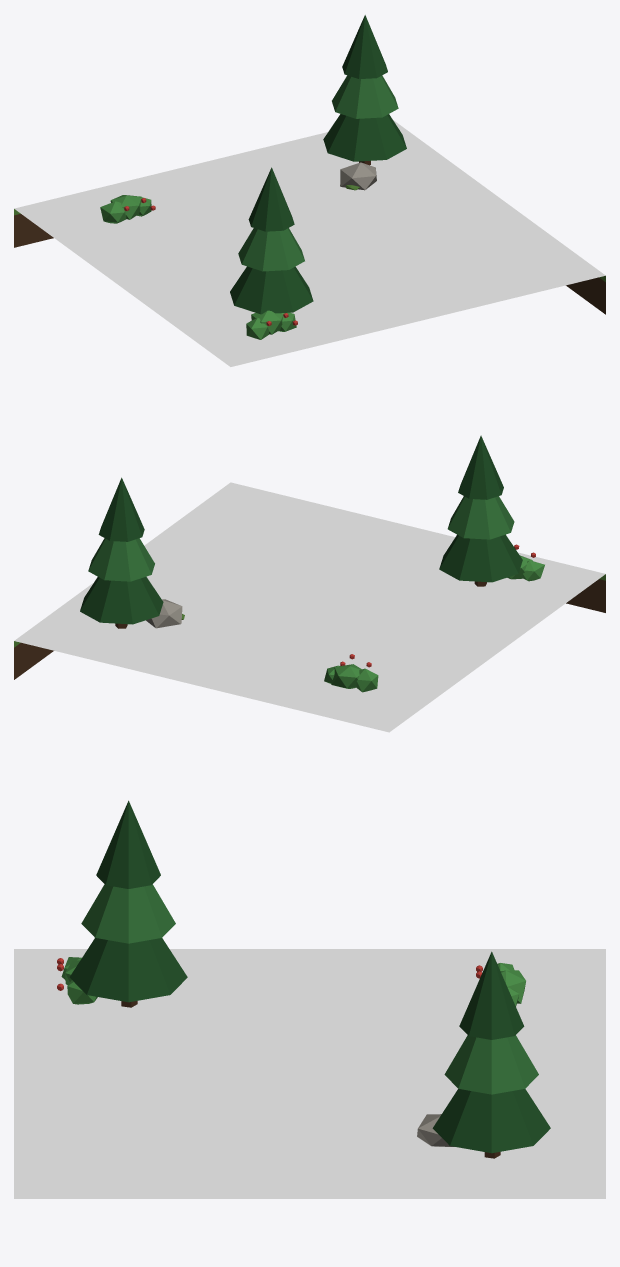
3 views of the same model, one above another, from view 1: azimuth 30°, elevation 25°; view 2: azimuth 150°, elevation 25°; view 3: azimuth 270°, elevation 25° (orthographic). The views are drawn at different scales.
Parts seen in each view (by area): view 1: rS; view 2: rS; view 3: rS.
Part boxes in pixels (x1,y1,x2,y2): rS: (14, 15, 605, 366); rS: (14, 435, 605, 732); rS: (14, 800, 605, 1198).
Bounding box in the file's own units: 2 × 0.96 × 2.
